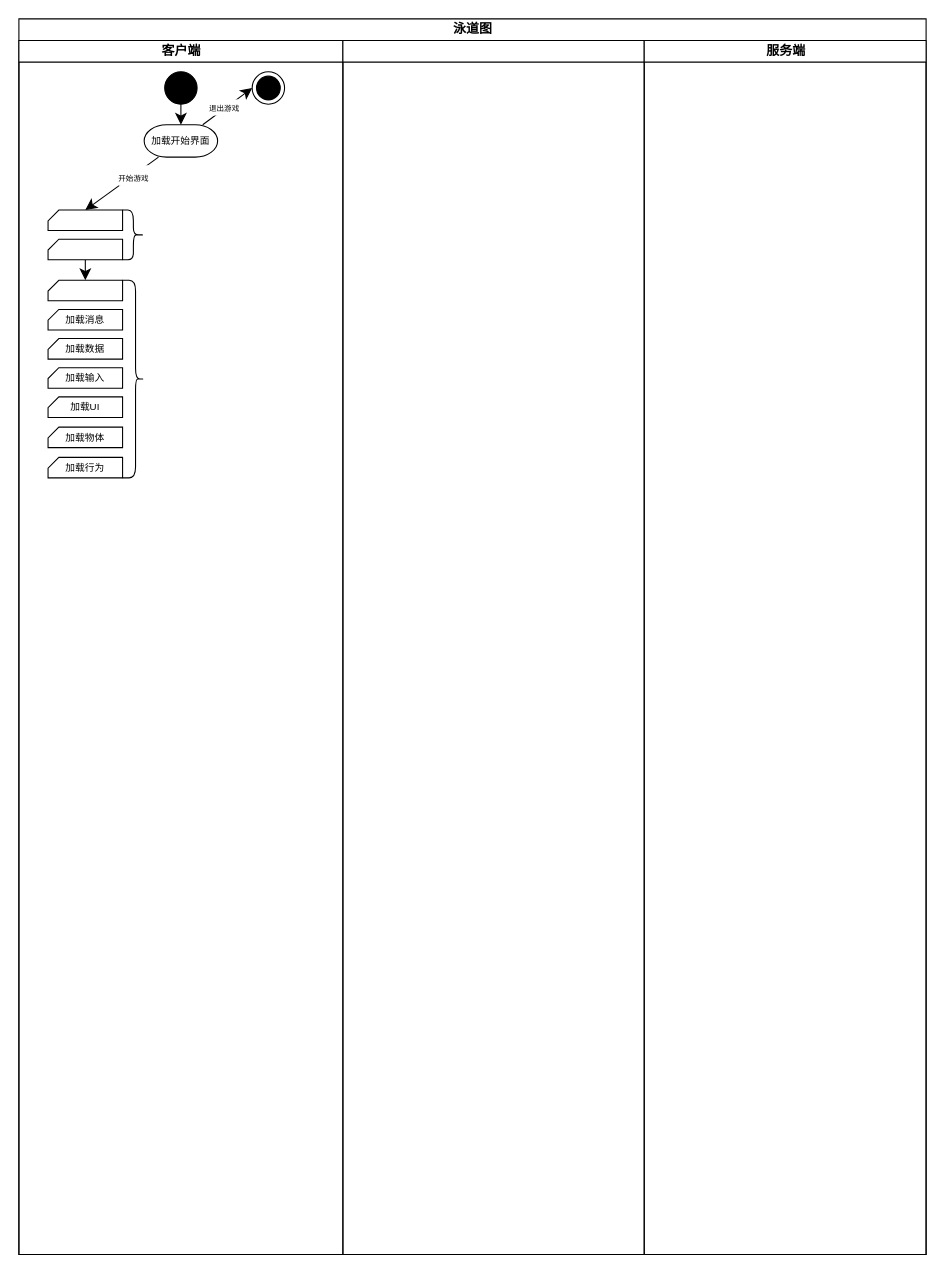
Image size: 945x1273. Some labels were removed from this diagram. The shapes that lost their labels are listed below. From the top down, each one's box as (x1, y1, x2, y2) in pixels, then its label:
(47, 209, 123, 231): 加载进度界面
(122, 209, 144, 260): 游戏加载
(47, 238, 123, 260): 异步加载场景
(47, 279, 123, 301): 加载配置
(122, 279, 144, 478): 模块加载
